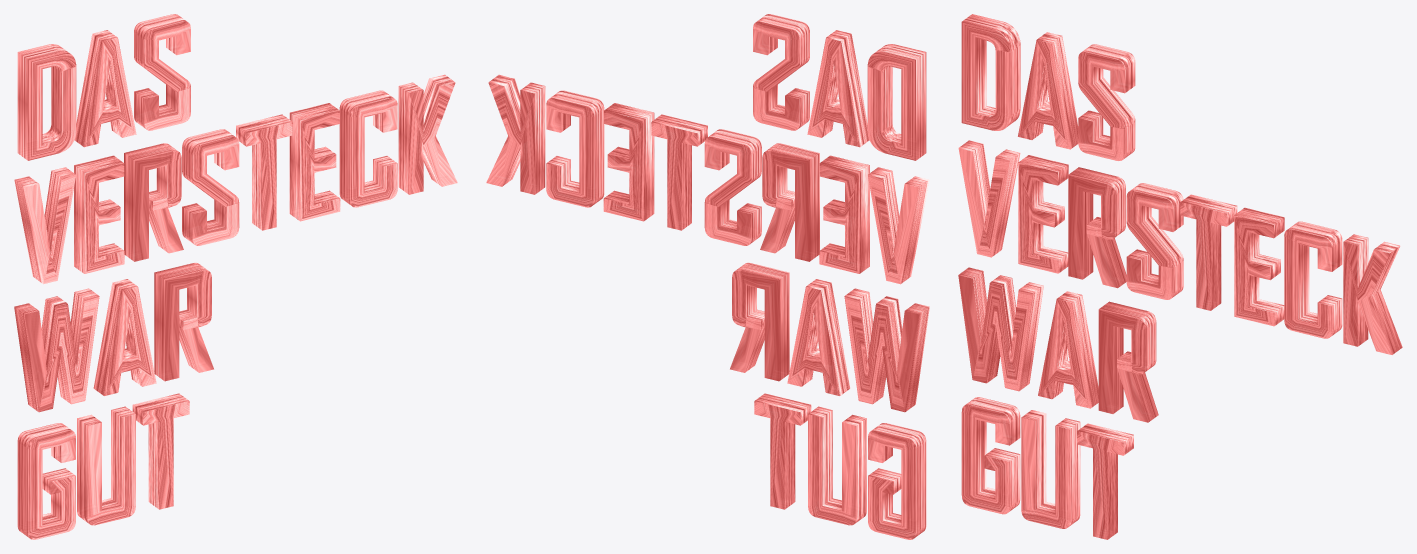
The picture shows the model from 3 angles, left to right: view 1: azimuth 30°, elevation 25°; view 2: azimuth 150°, elevation 25°; view 3: azimuth 330°, elevation 25°; orthographic projection.
Visible parts, largest first — view 1: Text; view 2: Text; view 3: Text.
Part boxes in pixels (<box>): Text: <box>14,14,457,539</box>; Text: <box>486,14,929,539</box>; Text: <box>958,14,1402,539</box>.
Bounding box in the file's own units: 4.29 × 4.56 × 0.18.
1 material, 1 textured.
